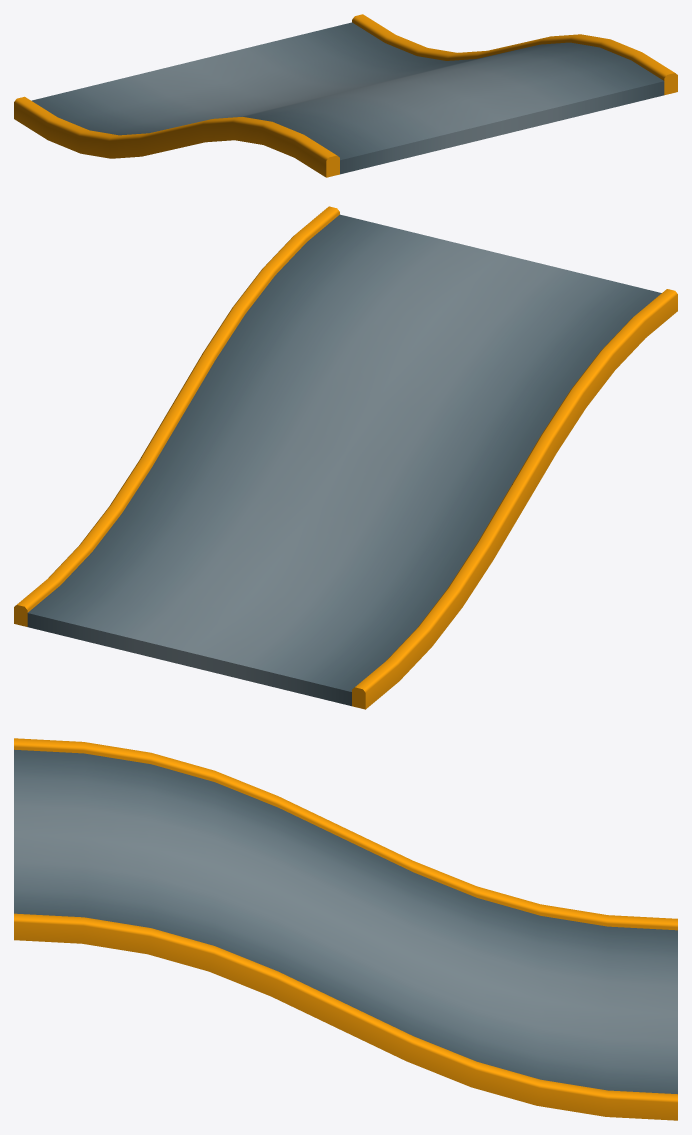
Rendered from platform_016.fbx.
3 renders of one model, top to bottom at view 1: azimuth 30°, elevation 25°; view 2: azimuth 150°, elevation 25°; view 3: azimuth 270°, elevation 25°, orthographic. The views are drawn at different scales.
Parts seen in each view (by area): view 1: platform_016; view 2: platform_016; view 3: platform_016.
Boxes of the visible parts, x1,y1,x2,y2 form: platform_016: (14,14,677,177); platform_016: (14,206,677,709); platform_016: (14,738,677,1120).
Bounding box in the file's own units: 1300 × 2000 × 670.
